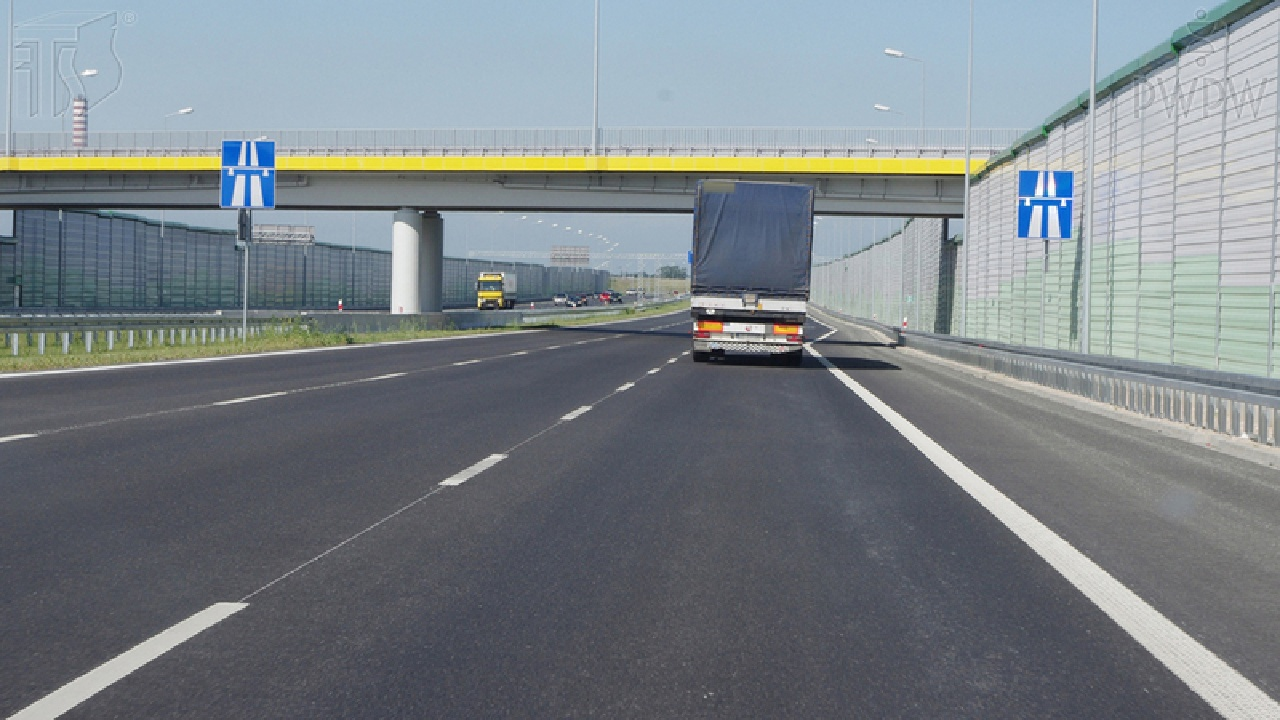D9: (1017, 170, 1073, 243), (220, 139, 276, 210)
